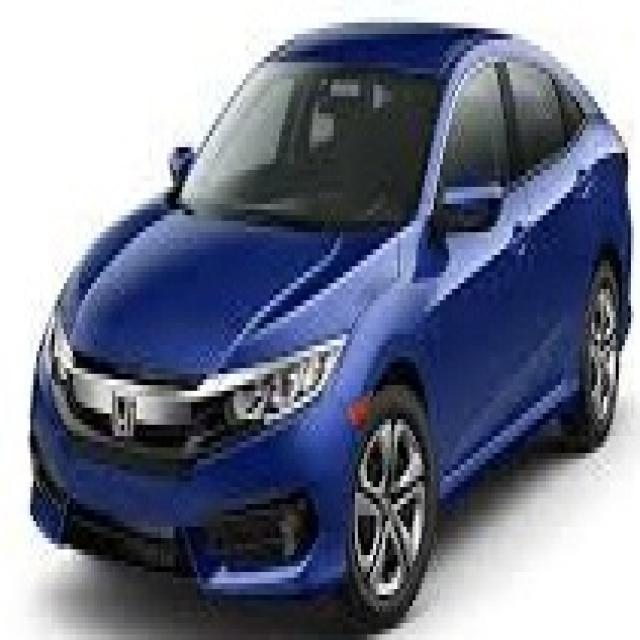blue: (27, 19, 632, 616)
